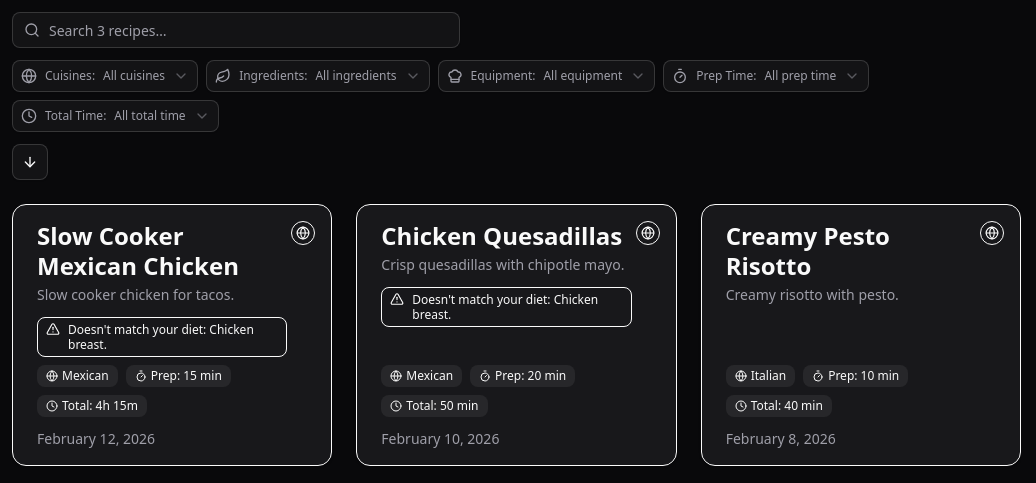
RecipeList › filters recipes from the inline search field
Type "risotto" into the search field with placeholder "Search 3 recipes…". click: (236, 30)
box: [12,12,460,48]
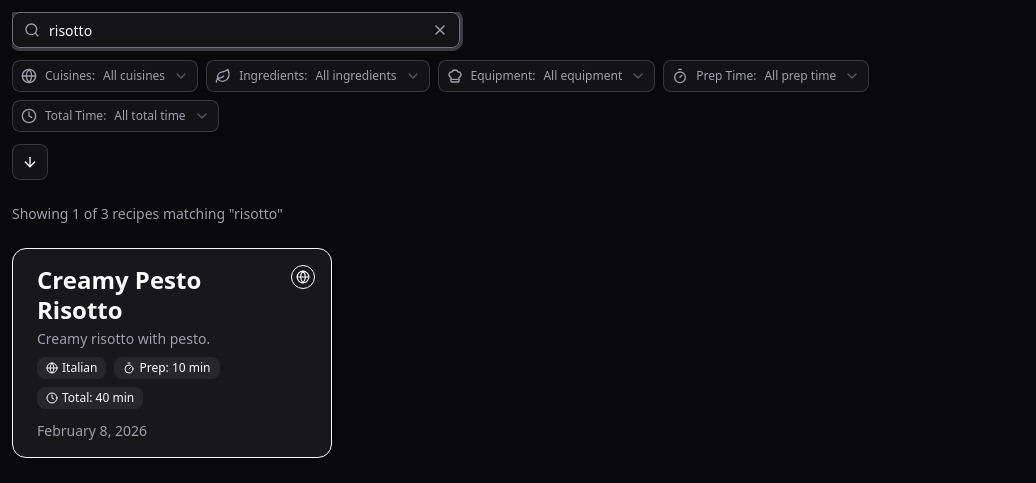
Expected: the link "Creamy Pesto Risotto" is shown, [37,263,201,326]
Expected: the text "Showing 1 of 3 recipes matching \"risotto\"" is shown, [12,204,283,223]
Expected: the link "Slow Cooker Mexican Chicken" is gone
